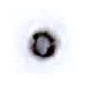cancer: (6, 5, 78, 80)
